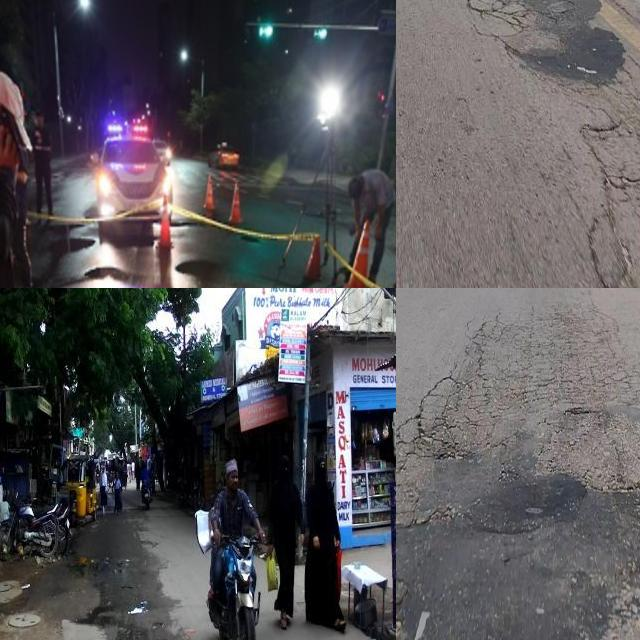Manhole: (8, 613, 40, 627)
Pothole: (2, 593, 46, 640), (62, 619, 106, 640), (150, 622, 168, 640), (128, 600, 149, 615), (117, 582, 142, 591)
